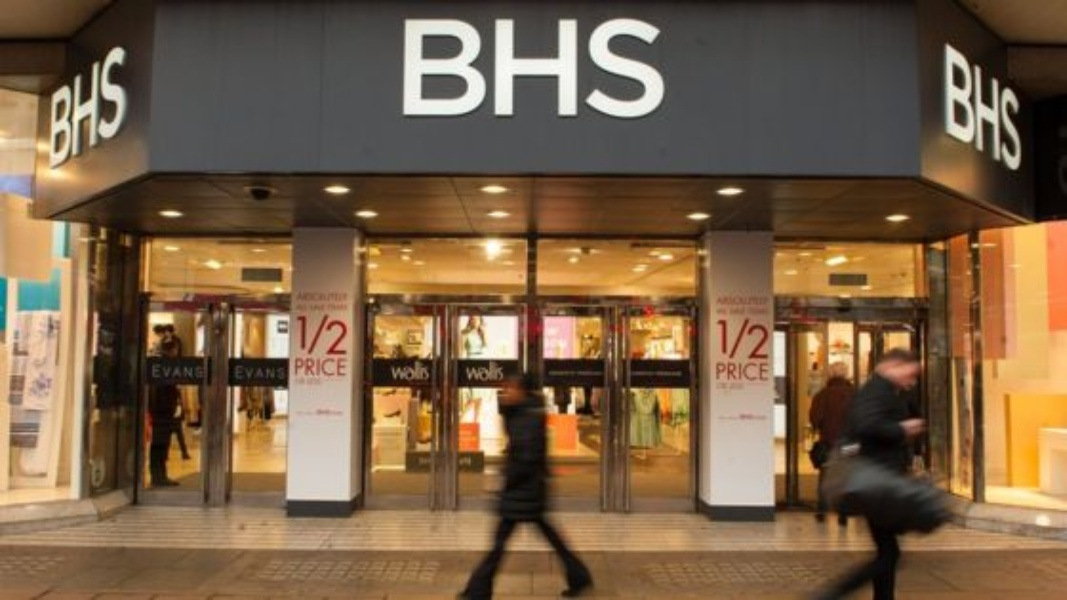text: (945, 33, 960, 178), (961, 33, 976, 178), (977, 33, 992, 178), (993, 33, 1008, 178), (1009, 33, 1024, 178), (49, 35, 64, 172), (65, 35, 80, 172), (81, 35, 96, 172), (97, 35, 112, 172), (113, 35, 128, 172), (401, 14, 416, 121), (417, 14, 432, 121), (433, 14, 448, 121), (449, 14, 464, 121), (465, 14, 480, 121), (481, 14, 496, 121), (497, 14, 512, 121), (513, 14, 528, 121), (529, 14, 544, 121), (545, 14, 560, 121), (561, 14, 576, 121), (577, 14, 592, 121), (593, 14, 608, 121), (609, 14, 624, 121), (625, 14, 640, 121), (641, 14, 656, 121), (657, 14, 669, 121), (129, 35, 136, 172), (337, 311, 353, 357), (305, 311, 320, 357), (321, 311, 336, 357), (721, 317, 736, 361), (737, 317, 752, 361), (753, 317, 768, 361), (940, 33, 944, 178), (294, 311, 304, 357), (305, 288, 320, 315), (321, 288, 336, 315), (721, 292, 736, 319), (737, 292, 752, 319), (753, 292, 768, 319), (417, 359, 433, 383), (401, 359, 416, 383), (721, 361, 736, 383), (737, 361, 752, 383), (753, 361, 768, 383), (465, 361, 480, 383), (481, 361, 496, 383), (337, 288, 349, 315), (305, 357, 320, 378), (321, 357, 336, 378), (161, 361, 176, 380), (177, 361, 192, 380), (294, 288, 304, 315), (389, 359, 400, 383), (241, 364, 256, 381), (257, 364, 272, 381), (273, 364, 288, 381), (337, 357, 349, 378), (193, 361, 206, 380), (715, 317, 720, 361), (294, 357, 304, 378), (497, 361, 505, 383), (151, 361, 160, 380), (231, 364, 240, 381), (1025, 33, 1026, 178), (715, 292, 720, 319), (769, 292, 774, 319), (769, 317, 772, 361), (715, 361, 720, 383), (769, 361, 770, 383), (289, 364, 290, 381)
